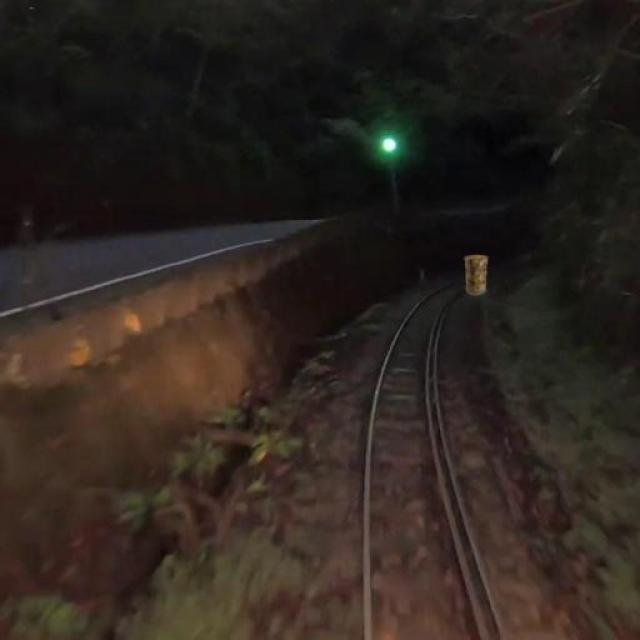Other_objects: (455, 251, 499, 302)
